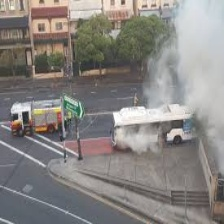smoke: (179, 4, 224, 147), (112, 125, 167, 154)
